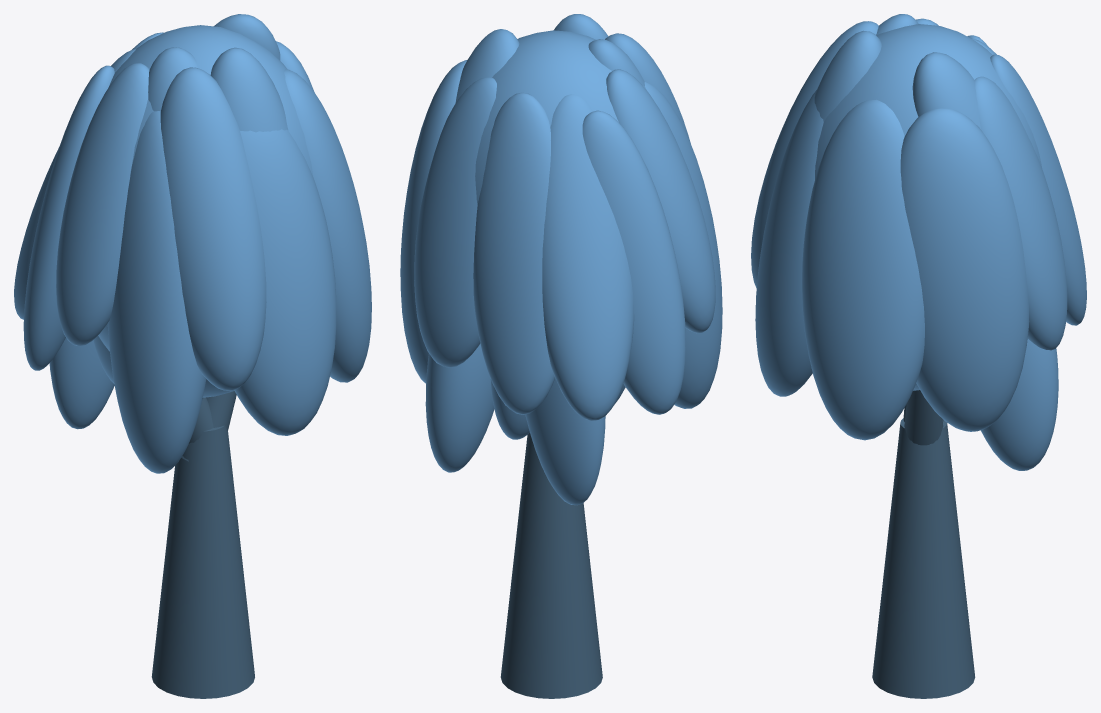
The model's file is SadnessLv3.glb.
3 views of the same model, side by side, from view 1: azimuth 30°, elevation 25°; view 2: azimuth 150°, elevation 25°; view 3: azimuth 270°, elevation 25° (orthographic).
Parts seen in each view (by area): view 1: GeoSphere013, GeoSphere008, GeoSphere022, Batang001, GeoSphere014, GeoSphere012, GeoSphere020, GeoSphere011, GeoSphere028, GeoSphere010, GeoSphere016, GeoSphere027 (+2 smaller); view 2: GeoSphere016, GeoSphere019, Batang001, GeoSphere020, GeoSphere017, GeoSphere014, GeoSphere011, GeoSphere018, GeoSphere010, GeoSphere021, GeoSphere008, GeoSphere029 (+4 smaller); view 3: GeoSphere012, GeoSphere021, Batang001, GeoSphere022, GeoSphere017, GeoSphere011, GeoSphere018, GeoSphere019, GeoSphere013, GeoSphere029, GeoSphere028, Batang002.
Boxes of the visible parts, left/top/right/bottom form: GeoSphere013: left=160, top=67, right=266, bottom=391; GeoSphere008: left=107, top=111, right=206, bottom=473; GeoSphere022: left=234, top=129, right=336, bottom=435; Batang001: left=151, top=425, right=254, bottom=698; GeoSphere014: left=56, top=63, right=149, bottom=345; GeoSphere012: left=284, top=69, right=371, bottom=382; GeoSphere020: left=23, top=65, right=114, bottom=370; GeoSphere011: left=98, top=25, right=313, bottom=397; GeoSphere028: left=210, top=47, right=288, bottom=132; GeoSphere010: left=49, top=338, right=114, bottom=429; GeoSphere016: left=14, top=49, right=135, bottom=319; GeoSphere027: left=148, top=47, right=197, bottom=111; GeoSphere016: left=542, top=94, right=634, bottom=420; GeoSphere019: left=473, top=92, right=554, bottom=414; Batang001: left=500, top=433, right=602, bottom=698; GeoSphere020: left=582, top=110, right=685, bottom=414; GeoSphere017: left=414, top=77, right=496, bottom=367; GeoSphere014: left=606, top=69, right=715, bottom=333; GeoSphere011: left=475, top=30, right=653, bottom=203; GeoSphere018: left=425, top=343, right=494, bottom=472; GeoSphere010: left=525, top=378, right=605, bottom=505; GeoSphere021: left=400, top=60, right=467, bottom=383; GeoSphere008: left=644, top=82, right=722, bottom=408; GeoSphere029: left=455, top=29, right=519, bottom=103; GeoSphere012: left=802, top=99, right=924, bottom=440; GeoSphere021: left=900, top=108, right=1029, bottom=431; Batang001: left=872, top=418, right=975, bottom=698; GeoSphere022: left=755, top=90, right=823, bottom=396; GeoSphere017: left=974, top=76, right=1067, bottom=350; GeoSphere011: left=815, top=24, right=1042, bottom=390; GeoSphere018: left=981, top=339, right=1058, bottom=470; GeoSphere019: left=990, top=54, right=1086, bottom=325; GeoSphere013: left=751, top=21, right=878, bottom=287; GeoSphere029: left=912, top=52, right=980, bottom=129; GeoSphere028: left=814, top=30, right=881, bottom=121; Batang002: left=904, top=390, right=943, bottom=445.
Bounding box in the file's own units: 0.8388 × 1.78 × 0.8388.
